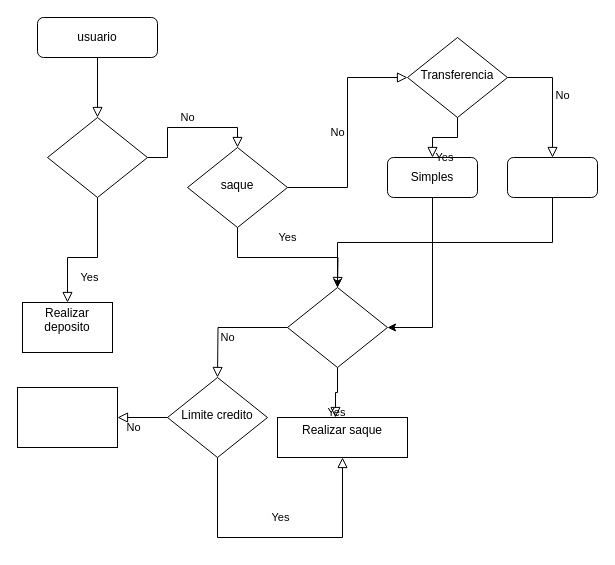
This 615x565 diagram has some shape labels left out. The box of each missing label's shape, as (x1, y1, x2, y2) in pixels:
deposito: (46, 116, 148, 198)
Limite indisponivel: (16, 386, 118, 448)
Lote: (506, 156, 598, 198)
Saldo: (286, 286, 388, 368)
